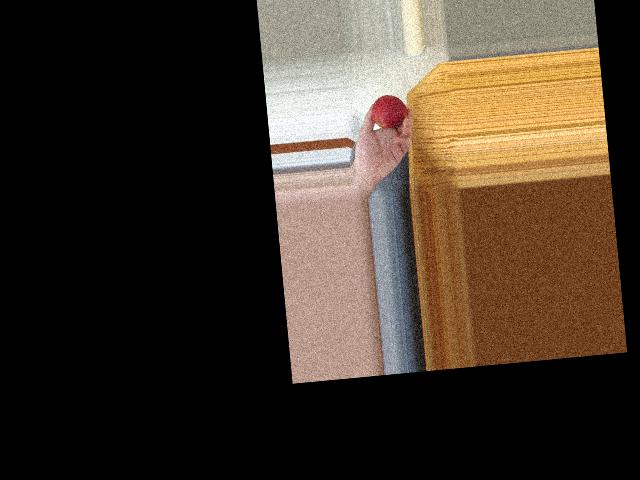apple: (370, 91, 407, 130)
